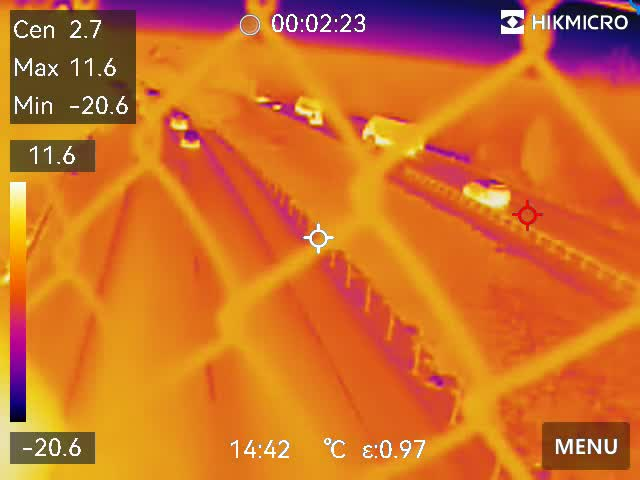heavyTruck: (359, 111, 427, 160), (291, 98, 342, 119)
largeCar: (461, 179, 518, 207)
smallCar: (177, 128, 200, 150)
vehicle: (163, 112, 189, 131)
